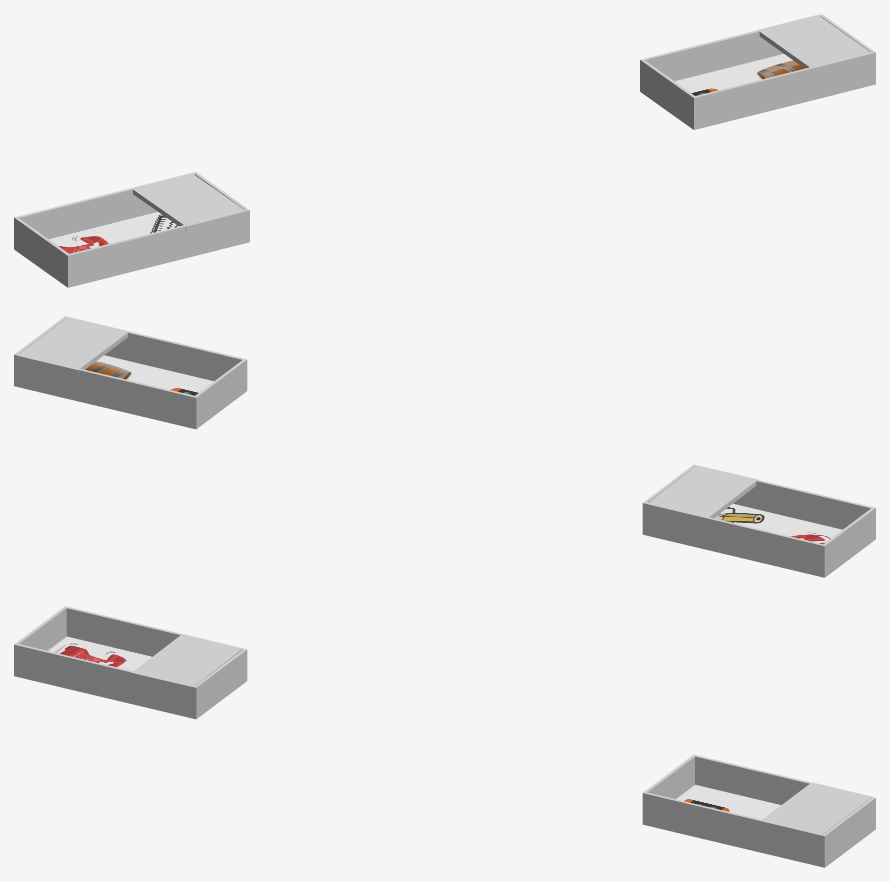
The model's file is bintapadoi.dae.
The picture shows the model from 3 angles, top to bottom: view 1: azimuth 30°, elevation 25°; view 2: azimuth 150°, elevation 25°; view 3: azimuth 330°, elevation 25°; orthographic projection.
Visible parts, largest first — view 1: Cube.009, Cube.004, Cube.003, Cube.008; view 2: Cube.004, Cube.009, Cube.008, Cube.003; view 3: Cube.009, Cube.004, Cube.003, Cube.008.
Part boxes in pixels (bbox=[...]): Cube.009: bbox=[640, 14, 875, 129]; Cube.004: bbox=[14, 172, 249, 287]; Cube.003: bbox=[132, 173, 246, 231]; Cube.008: bbox=[757, 15, 871, 68]; Cube.004: bbox=[642, 464, 875, 577]; Cube.009: bbox=[14, 316, 247, 429]; Cube.008: bbox=[17, 317, 128, 374]; Cube.003: bbox=[647, 465, 757, 518]; Cube.009: bbox=[642, 754, 875, 867]; Cube.004: bbox=[14, 606, 247, 719]; Cube.003: bbox=[131, 634, 242, 691]; Cube.008: bbox=[761, 782, 872, 834].
Size of the model in its own units: 2.67 by 0.338 by 0.1.
4 materials, 2 textured.
